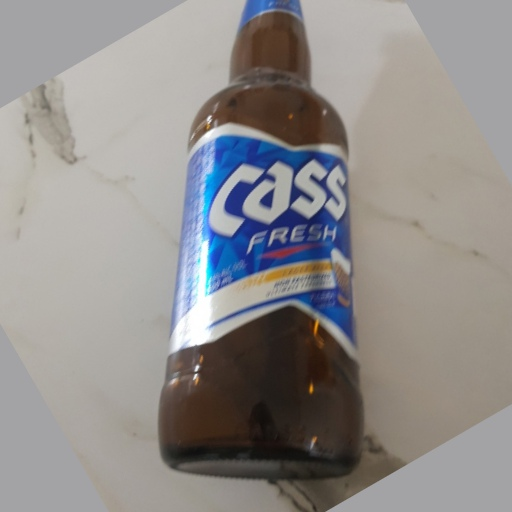Glass_1: (153, 1, 367, 480)
